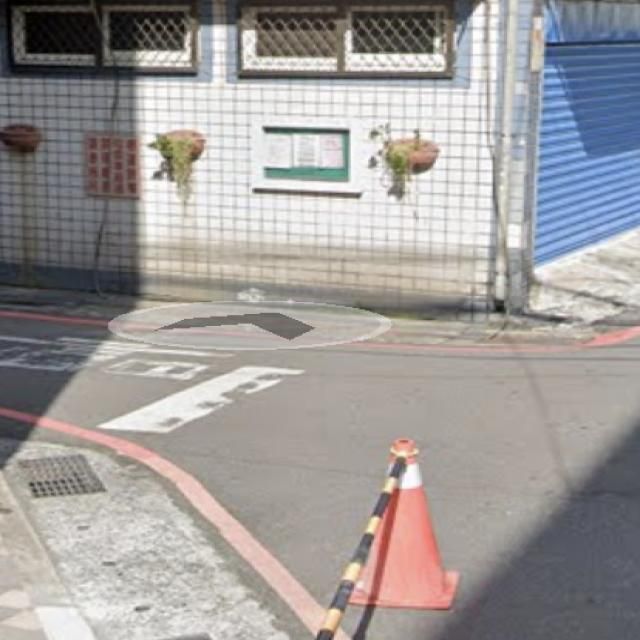cone: (332, 435, 472, 618)
